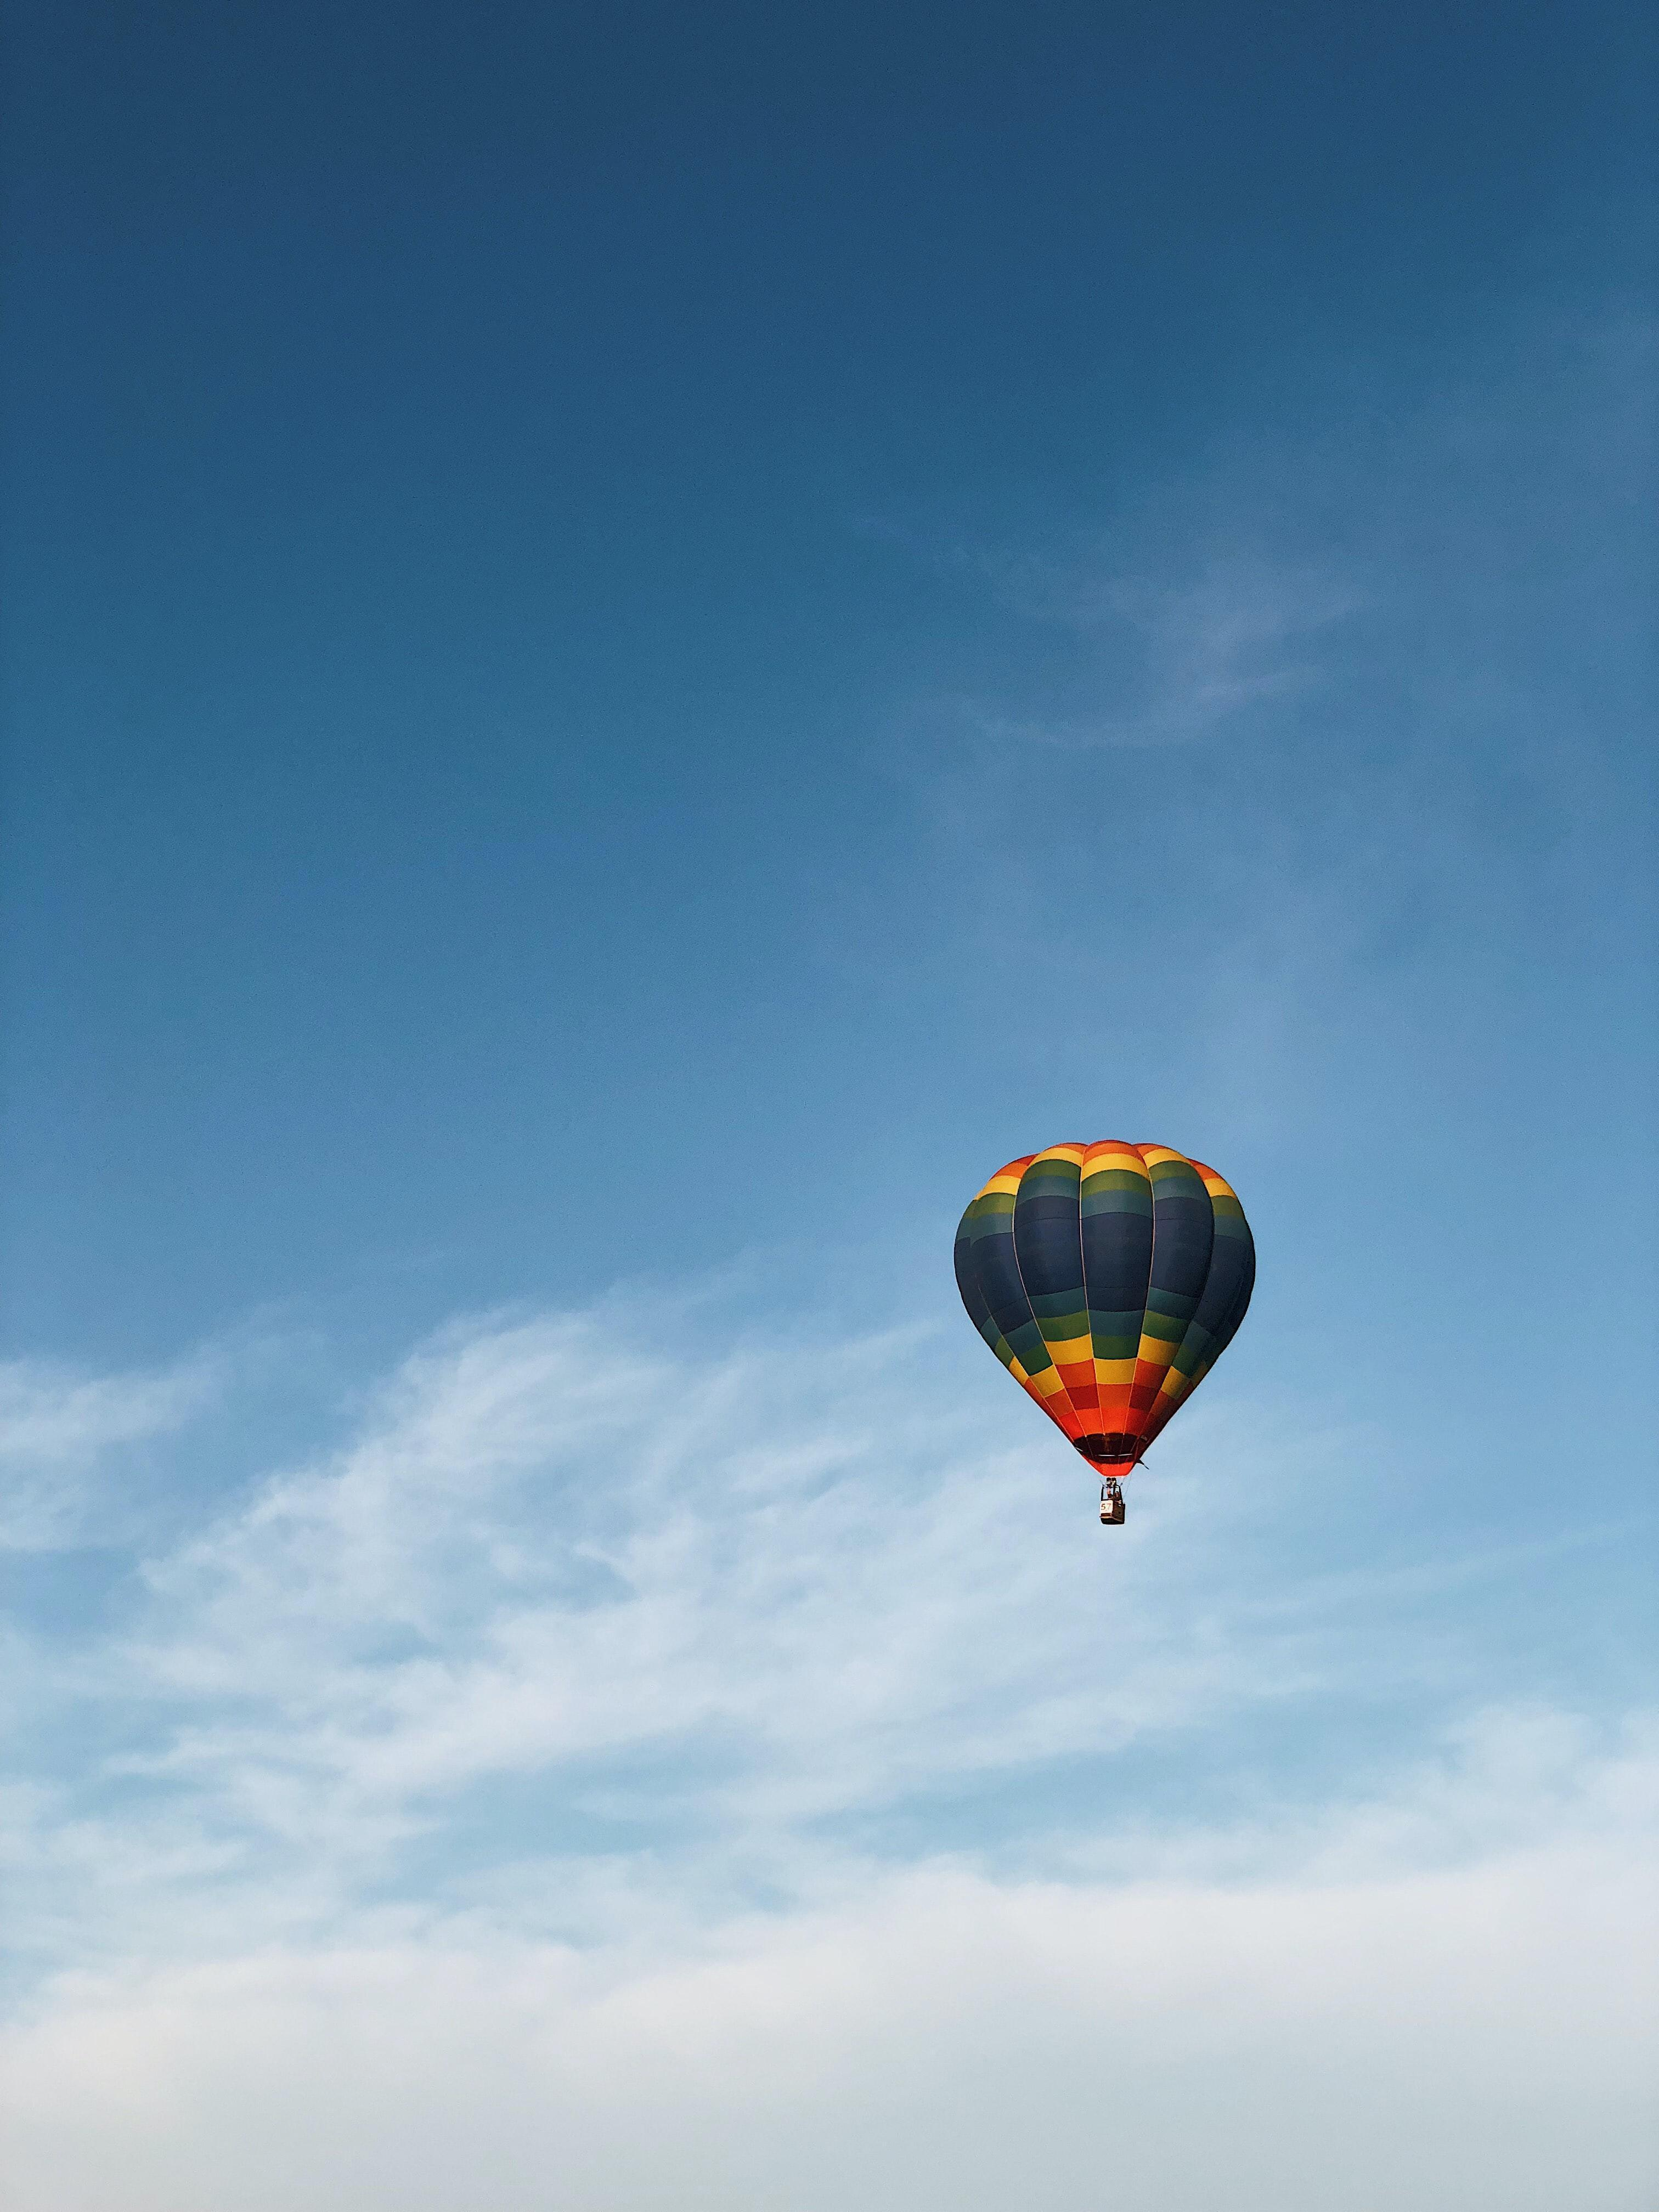hot air ballon: (934, 1125, 1279, 1541)
